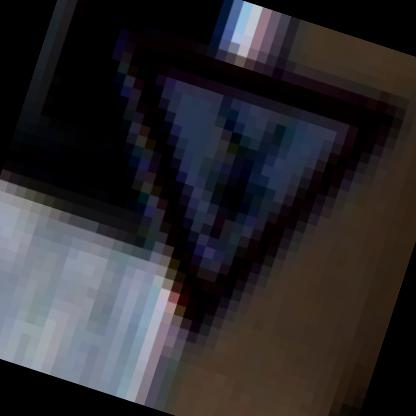crosswalk: (45, 2, 415, 388)
